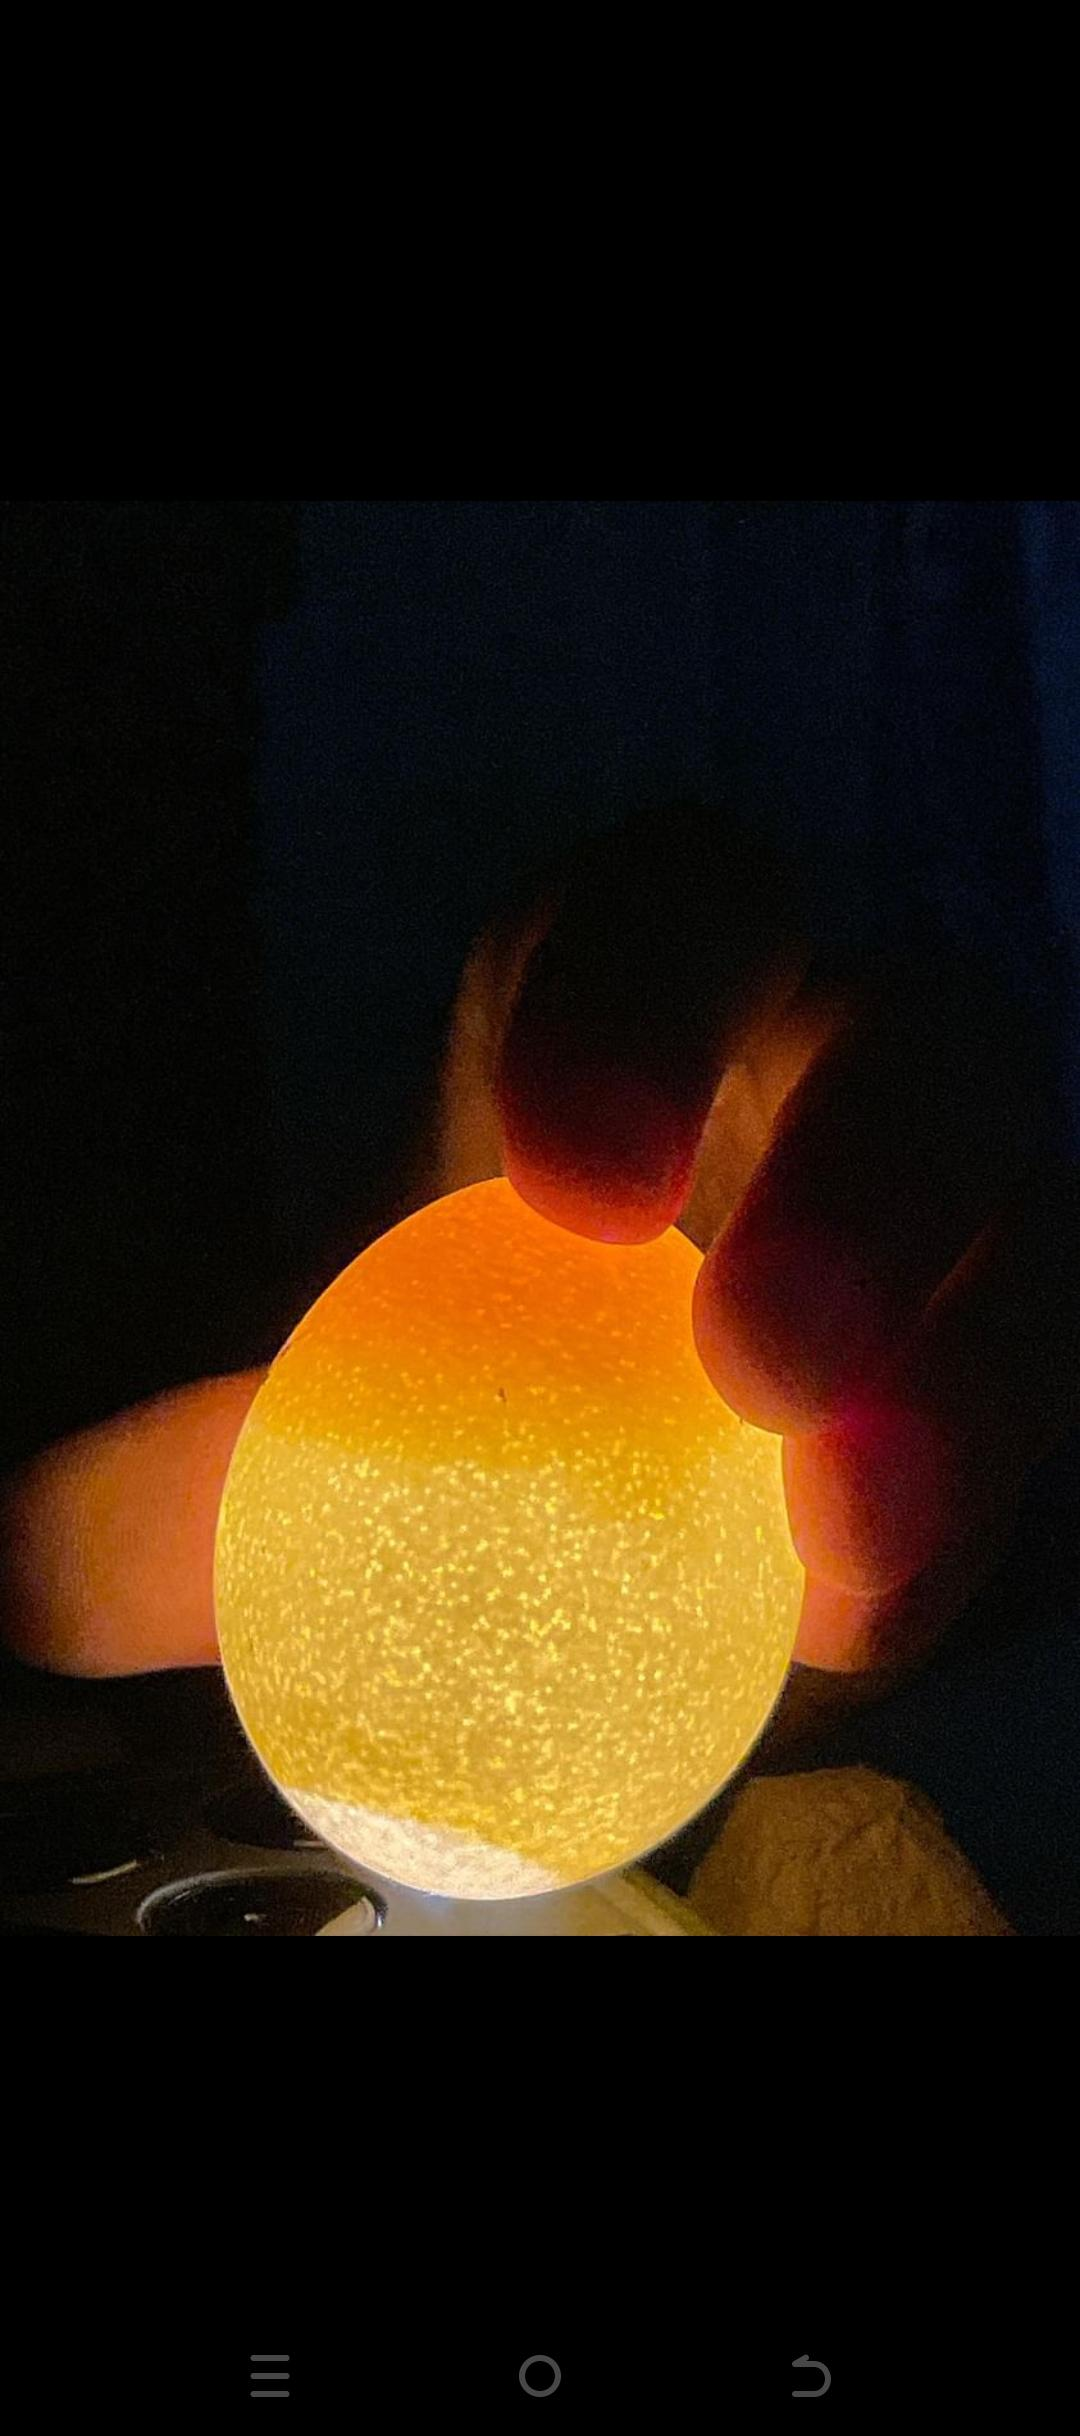A - Good: (210, 1167, 817, 1914)
